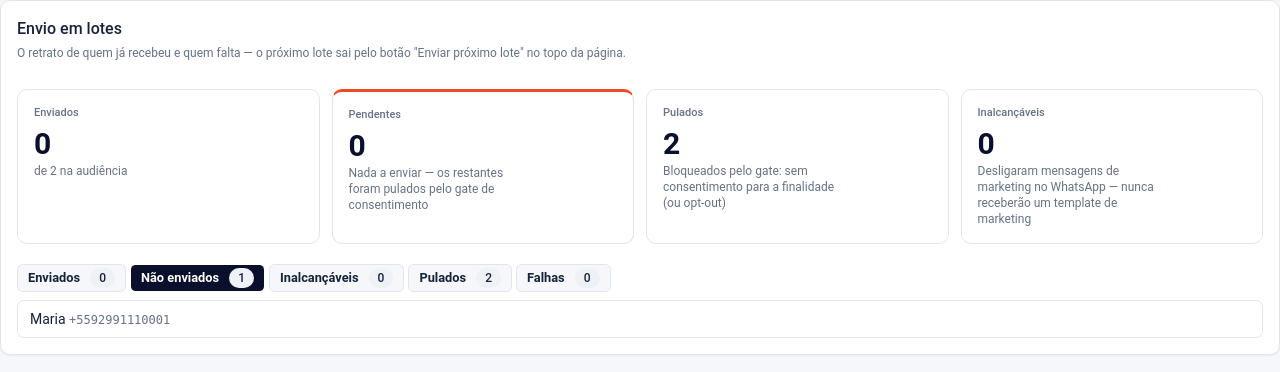
Test case: BatchPanel — pulados pelo gate de consentimento › tem a aba "Pulados" ao lado das outras três
Click the button "Pulados 2" at coordinates (460, 278), box [408, 264, 512, 292]
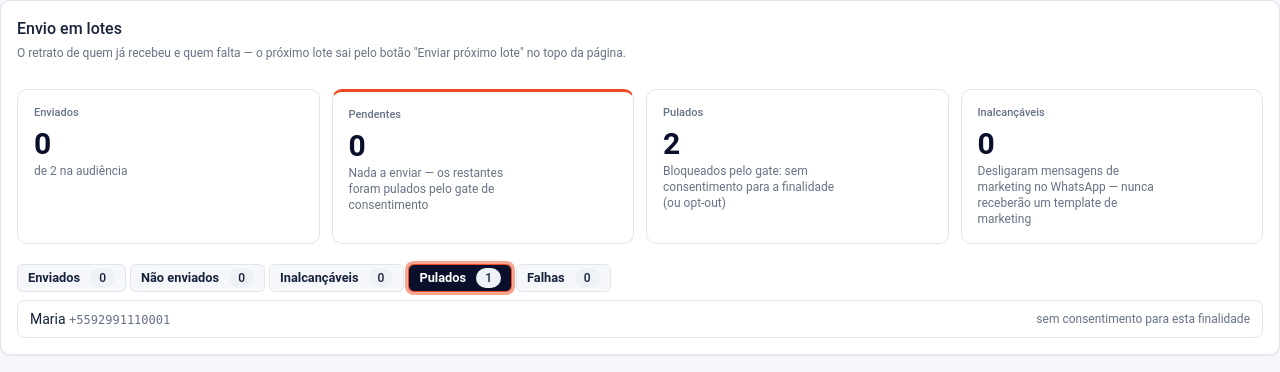
Now the list item "Maria" shows "sem consentimento para esta finalidade", box [1036, 312, 1250, 326]
